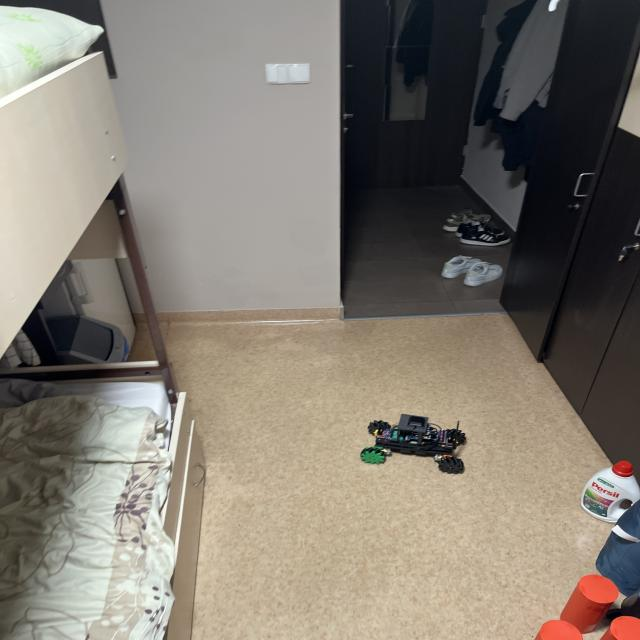robot: (361, 414, 466, 474)
